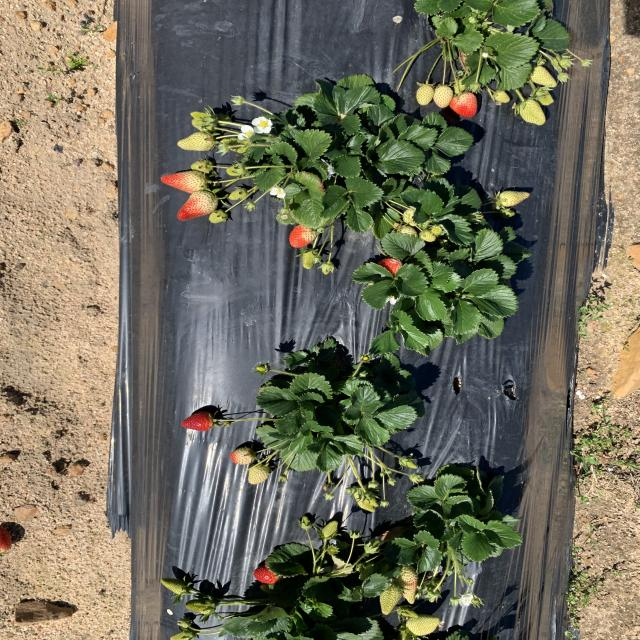unripe: (252, 558, 286, 584), (289, 222, 319, 247), (180, 413, 217, 432), (452, 94, 479, 118), (379, 258, 406, 278)
